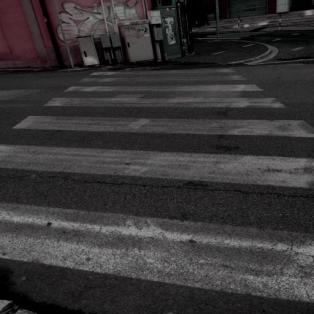Paso de Cebra: (0, 140, 314, 306), (40, 82, 290, 114)
